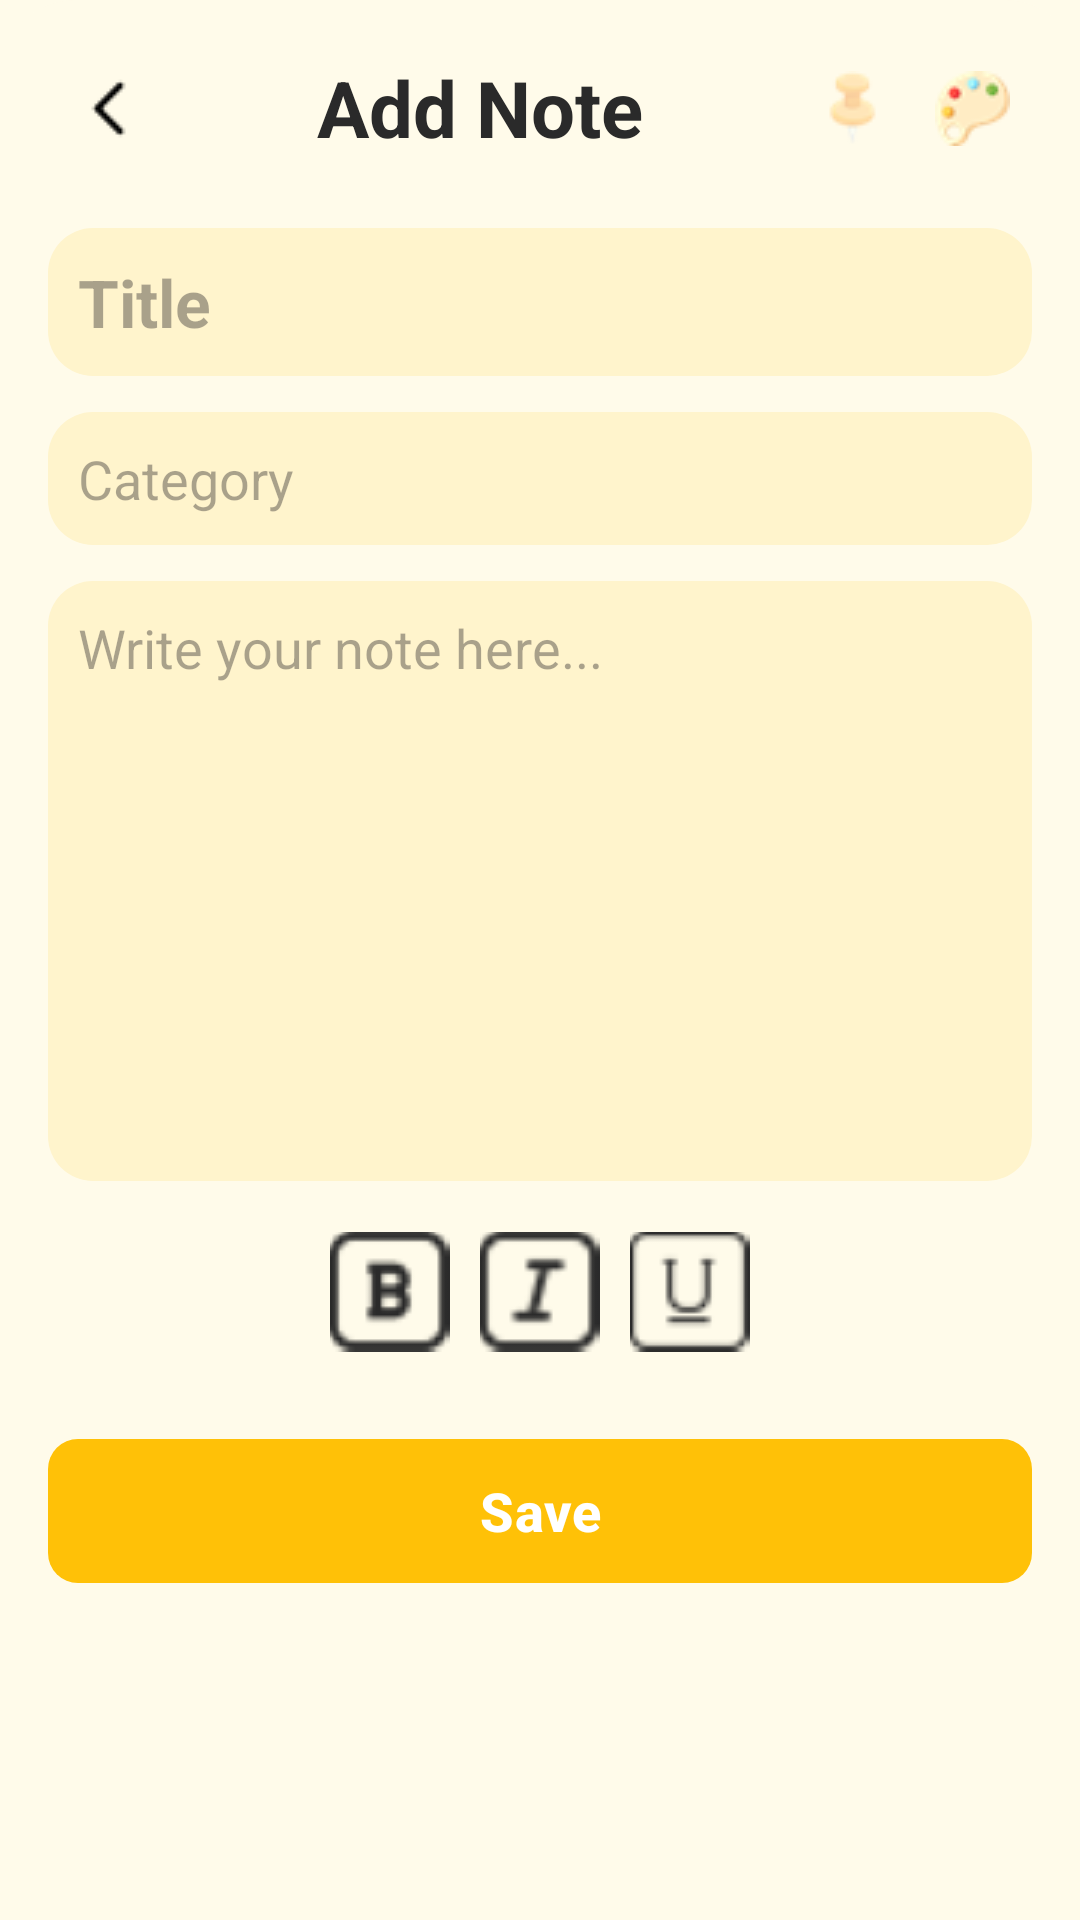

Named icons in this screenshot (1080px×1920px) and their bounding boxes, (x1, y1, x2, y2):
back: (92, 82, 125, 135)
italic: (480, 1232, 600, 1352)
palette: (939, 71, 1010, 146)
pin: (830, 74, 875, 126)
underline: (630, 1232, 750, 1352)
